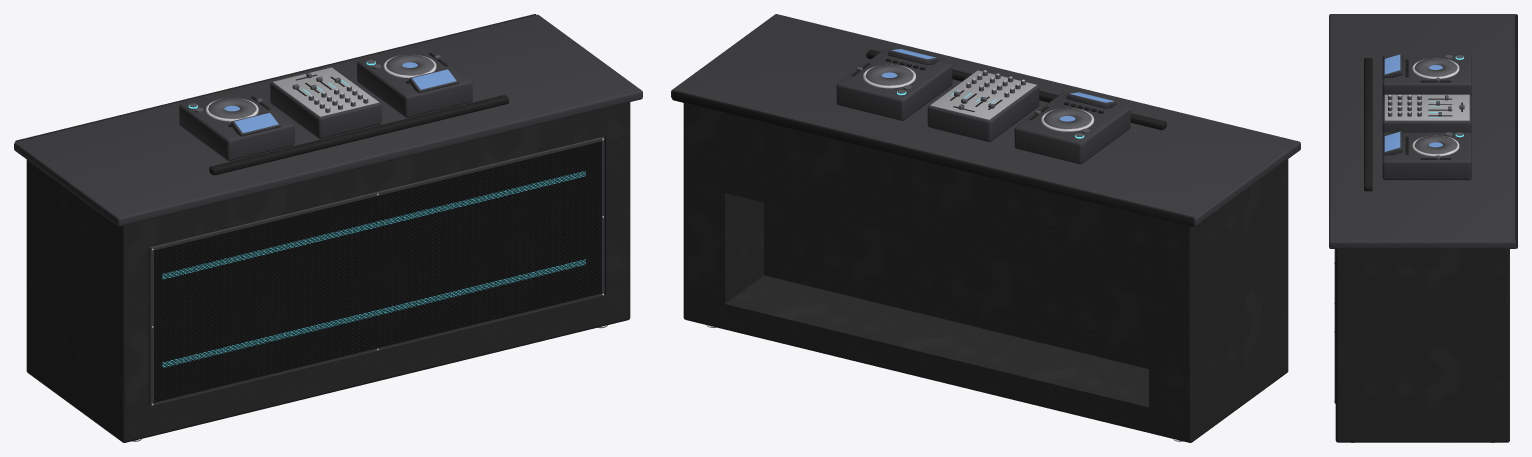
File: club_dj_booth.glb
3 views of the same model, side by side, from view 1: azimuth 30°, elevation 25°; view 2: azimuth 150°, elevation 25°; view 3: azimuth 270°, elevation 25° (orthographic). The views are drawn at different scales.
Parts seen in each view (by area): view 1: DJ1_Cabinet, DJ1_Grille, DJ1_MetalDark, DJ1_LED, DJ1_Rubber, DJ1_Panel, DJ1_Plastic, DJ1_Screen, DJ1_Steel; view 2: DJ1_Cabinet, DJ1_MetalDark, DJ1_Rubber, DJ1_Panel, DJ1_Plastic, DJ1_Steel; view 3: DJ1_MetalDark, DJ1_Cabinet, DJ1_Rubber, DJ1_Panel, DJ1_Plastic, DJ1_Screen, DJ1_Steel.
Part boxes in pixels (x1,y1,x2,y2): DJ1_Cabinet: (26,102,630,442); DJ1_Grille: (154,141,601,402); DJ1_MetalDark: (14,14,642,406); DJ1_LED: (162,61,585,367); DJ1_Rubber: (15,14,536,175); DJ1_Panel: (273,67,379,116); DJ1_Plastic: (189,54,440,118); DJ1_Screen: (224,62,456,132); DJ1_Steel: (131,54,607,441); DJ1_Cabinet: (683,103,1288,442); DJ1_MetalDark: (671,14,1300,226); DJ1_Rubber: (672,49,1194,226); DJ1_Panel: (930,70,1036,119); DJ1_Plastic: (856,64,1091,136); DJ1_Steel: (706,64,1182,441); DJ1_MetalDark: (1329,14,1516,403); DJ1_Cabinet: (1335,249,1509,442); DJ1_Rubber: (1364,14,1517,248); DJ1_Panel: (1384,94,1469,120); DJ1_Plastic: (1388,55,1464,159); DJ1_Screen: (1384,54,1442,151); DJ1_Steel: (1334,58,1494,442).
Bounding box in the file's own units: 2.48 × 1.21 × 0.866.
Materials: 9 (2 with a texture image).
